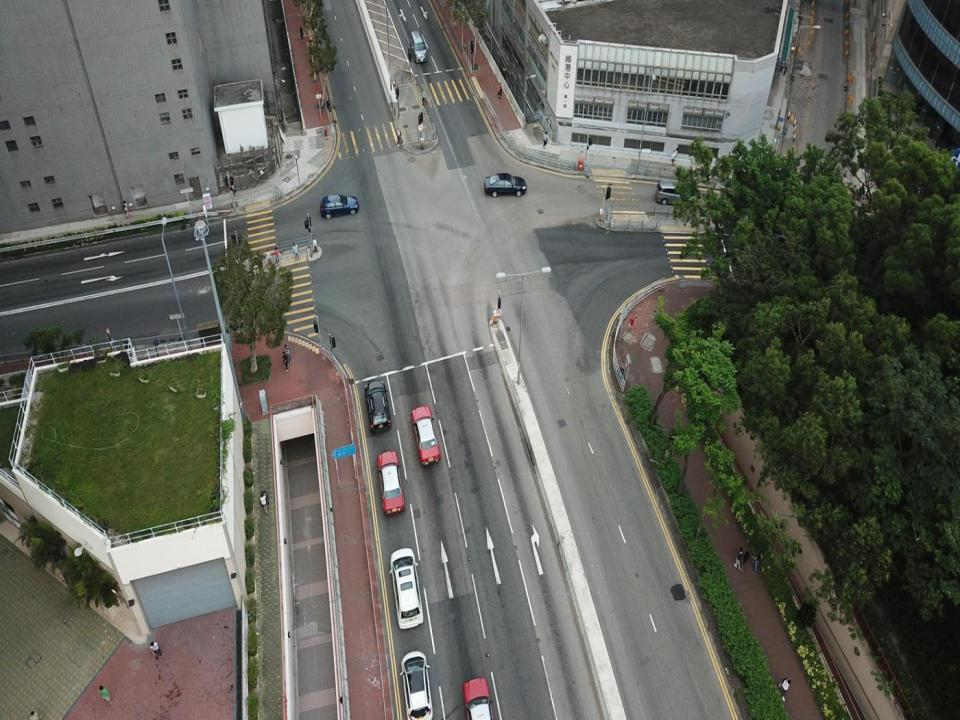car: (388, 546, 425, 632), (400, 651, 433, 719), (376, 450, 404, 512), (364, 379, 393, 435), (412, 407, 440, 465), (464, 679, 494, 719), (482, 172, 527, 197), (320, 193, 357, 218)
van: (656, 180, 700, 206), (410, 28, 428, 64)
